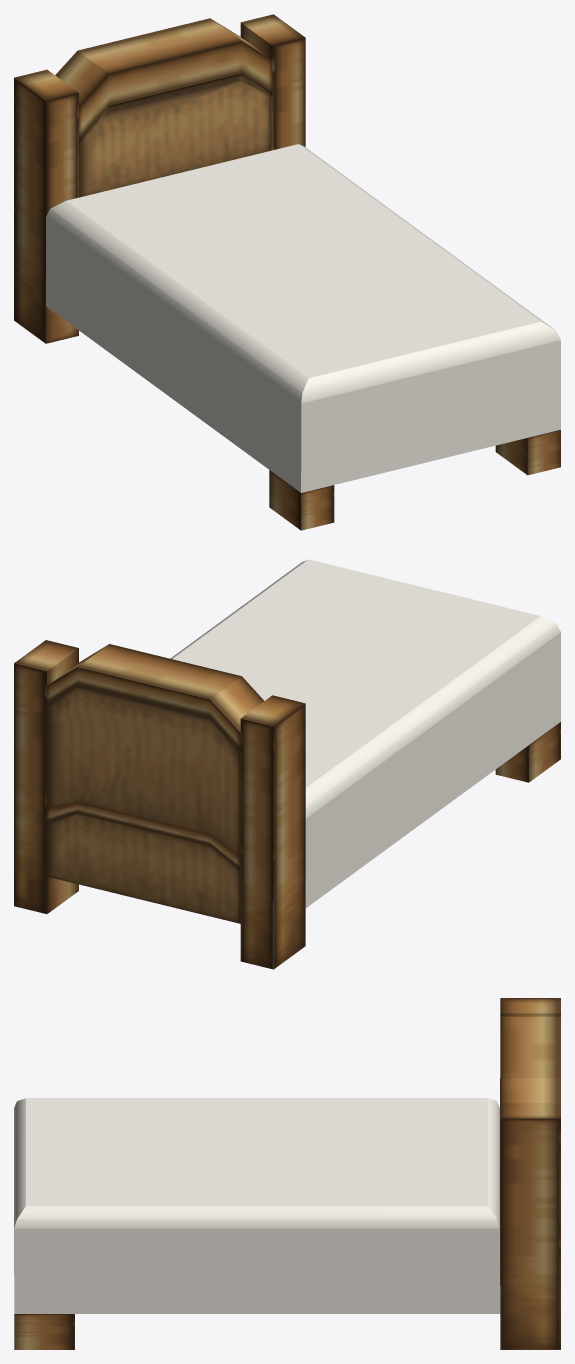
File: Inside_Poly_Bed_01_Without_Blanket.obj
3 renders of one model, top to bottom at view 1: azimuth 30°, elevation 25°; view 2: azimuth 150°, elevation 25°; view 3: azimuth 270°, elevation 25°, orthographic. The views are drawn at different scales.
Parts seen in each view (by area): view 1: Cube.001, Cube.002; view 2: Cube.002, Cube.001; view 3: Cube.001, Cube.002.
Boxes of the visible parts, bbox=[...] form: Cube.001: bbox=[46, 144, 560, 492]; Cube.002: bbox=[14, 14, 560, 530]; Cube.002: bbox=[14, 640, 560, 969]; Cube.001: bbox=[170, 559, 560, 907]; Cube.001: bbox=[14, 1098, 500, 1313]; Cube.002: bbox=[14, 998, 560, 1349].
Bounding box in the file's own units: 0.94 × 0.88 × 1.8.
1 material, 1 textured.
